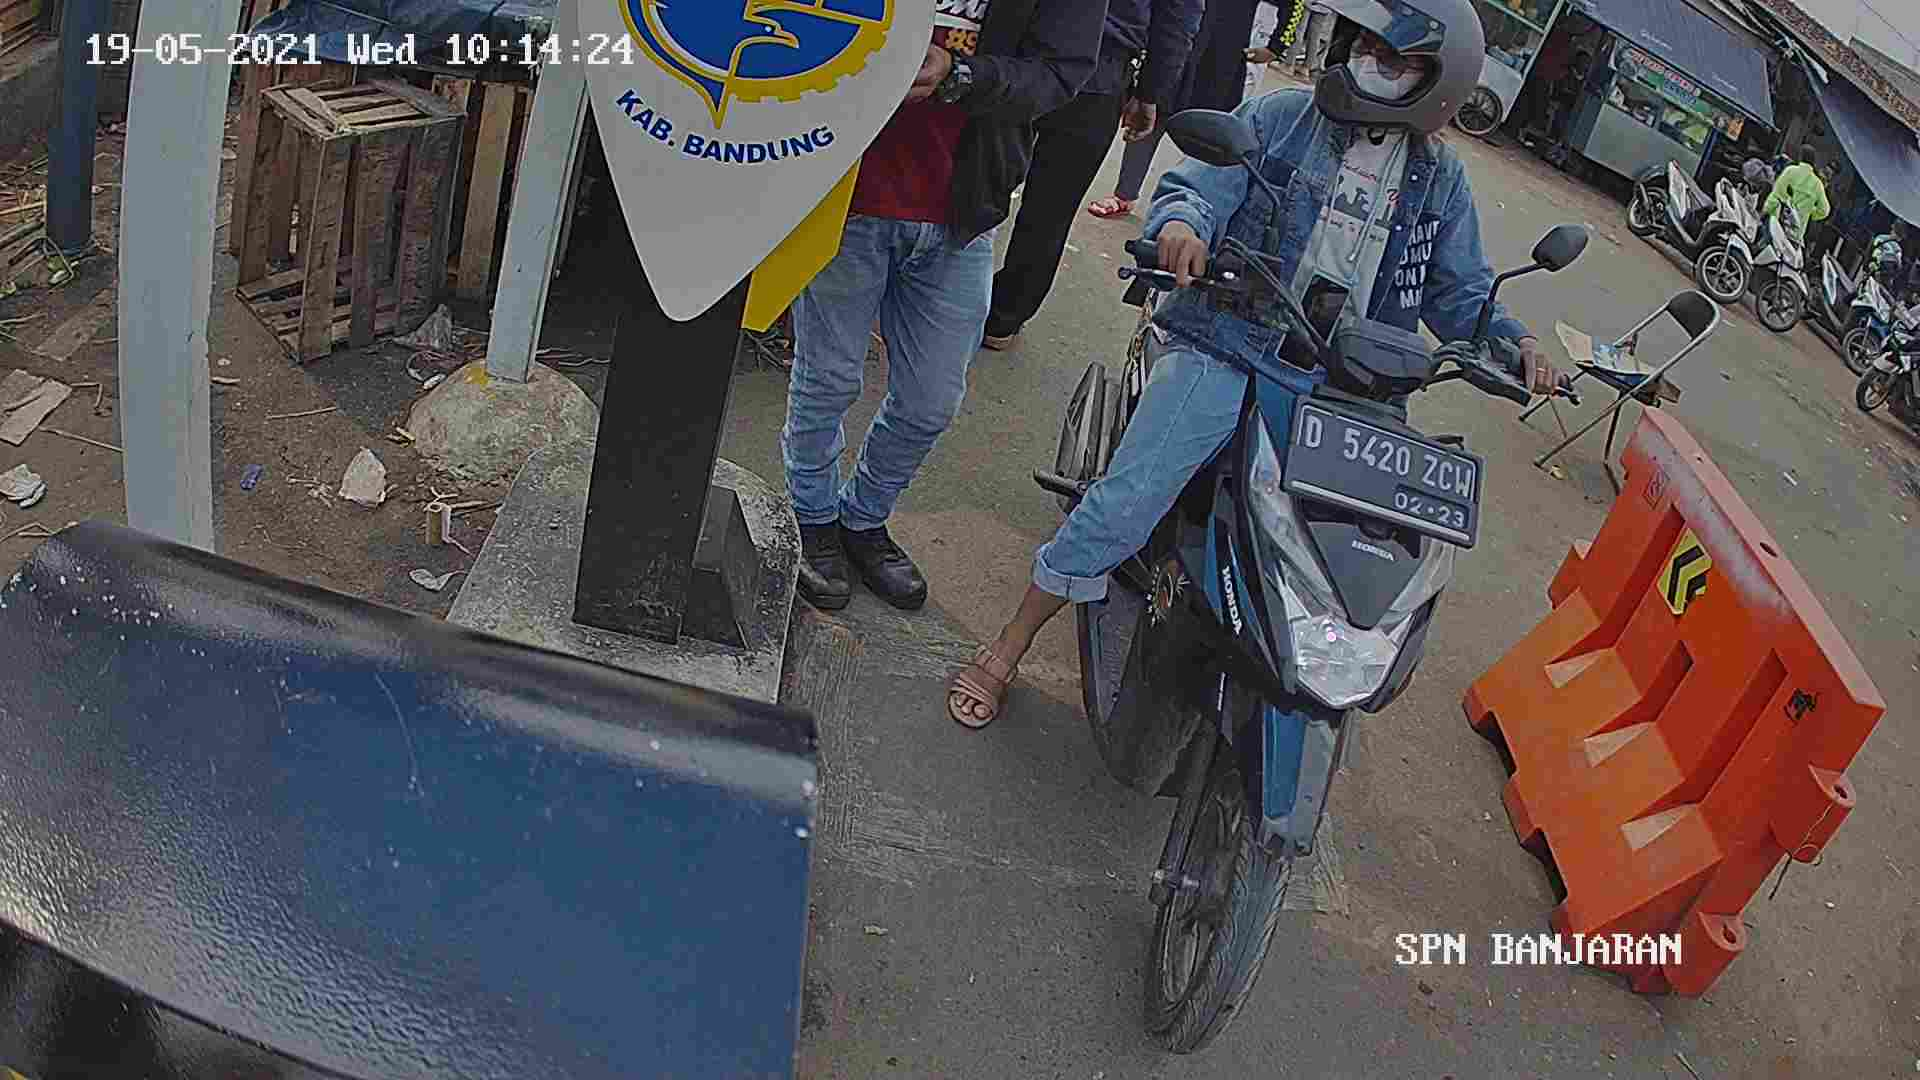motor: (1097, 233, 1491, 1077)
